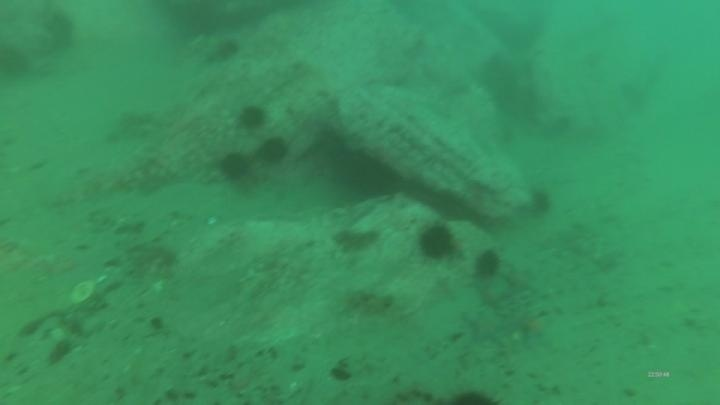echinus: (337, 149, 397, 200), (38, 8, 79, 54), (415, 221, 458, 263), (1, 40, 33, 83), (216, 150, 253, 183), (471, 247, 504, 282), (206, 36, 243, 67), (257, 135, 291, 167), (235, 102, 270, 133), (526, 186, 555, 219)
holothurian: (338, 285, 397, 319), (329, 225, 379, 256)
starfish: (462, 305, 510, 347), (515, 309, 556, 347)
